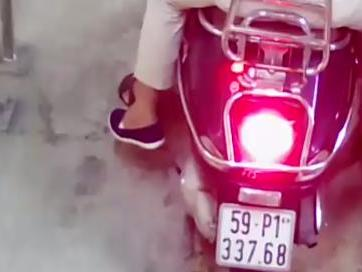num_plate: (214, 203, 297, 272)
